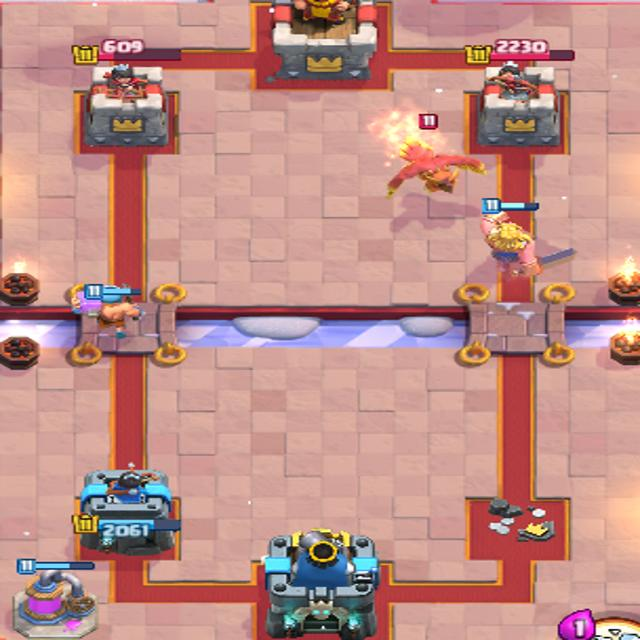EKingTower: (252, 4, 390, 86)
EPhenix: (390, 123, 470, 195)
EnemyPrincessTower: (464, 60, 566, 149), (80, 61, 177, 150)
OLumberjack: (70, 278, 143, 339)
OPump: (12, 564, 98, 639)
ORoyalKnight: (479, 193, 577, 284)
OwnKingTower: (260, 543, 382, 639)
OwnPrincessTower: (81, 480, 178, 565)
TowerDown: (470, 503, 566, 554)
